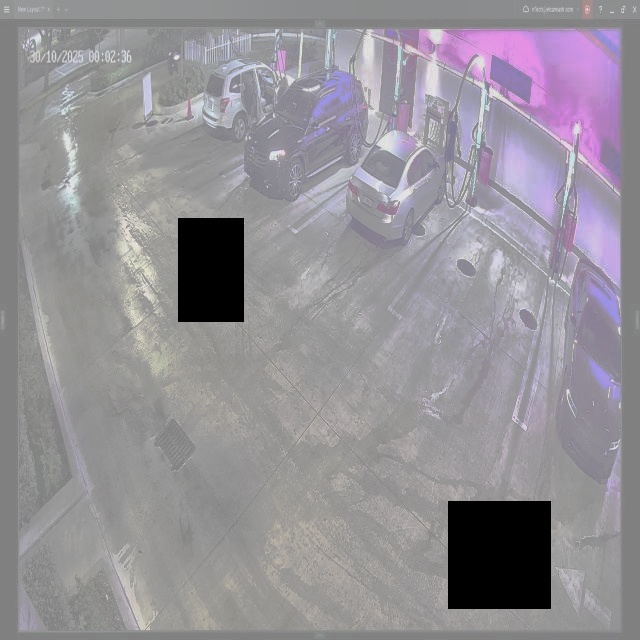Car: (243, 70, 368, 188), (347, 128, 446, 248)
